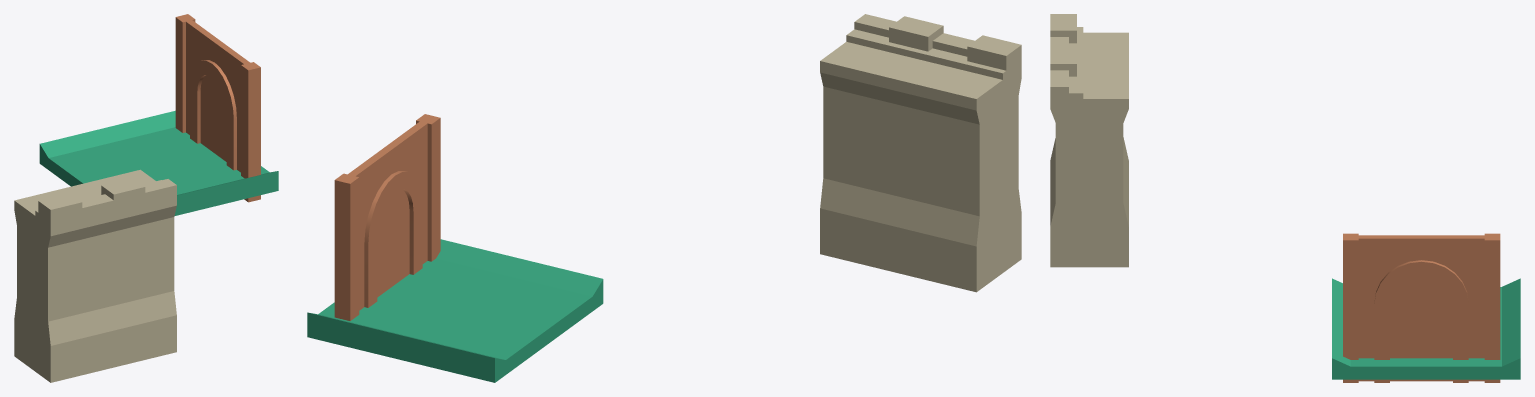
Rendered from barracks.glb.
The picture shows the model from 3 angles, left to right: view 1: azimuth 30°, elevation 25°; view 2: azimuth 150°, elevation 25°; view 3: azimuth 270°, elevation 25°; orthographic projection. The views are drawn at different scales.
Bounding box in the file's own units: 28.4 × 13.1 × 29.9.
